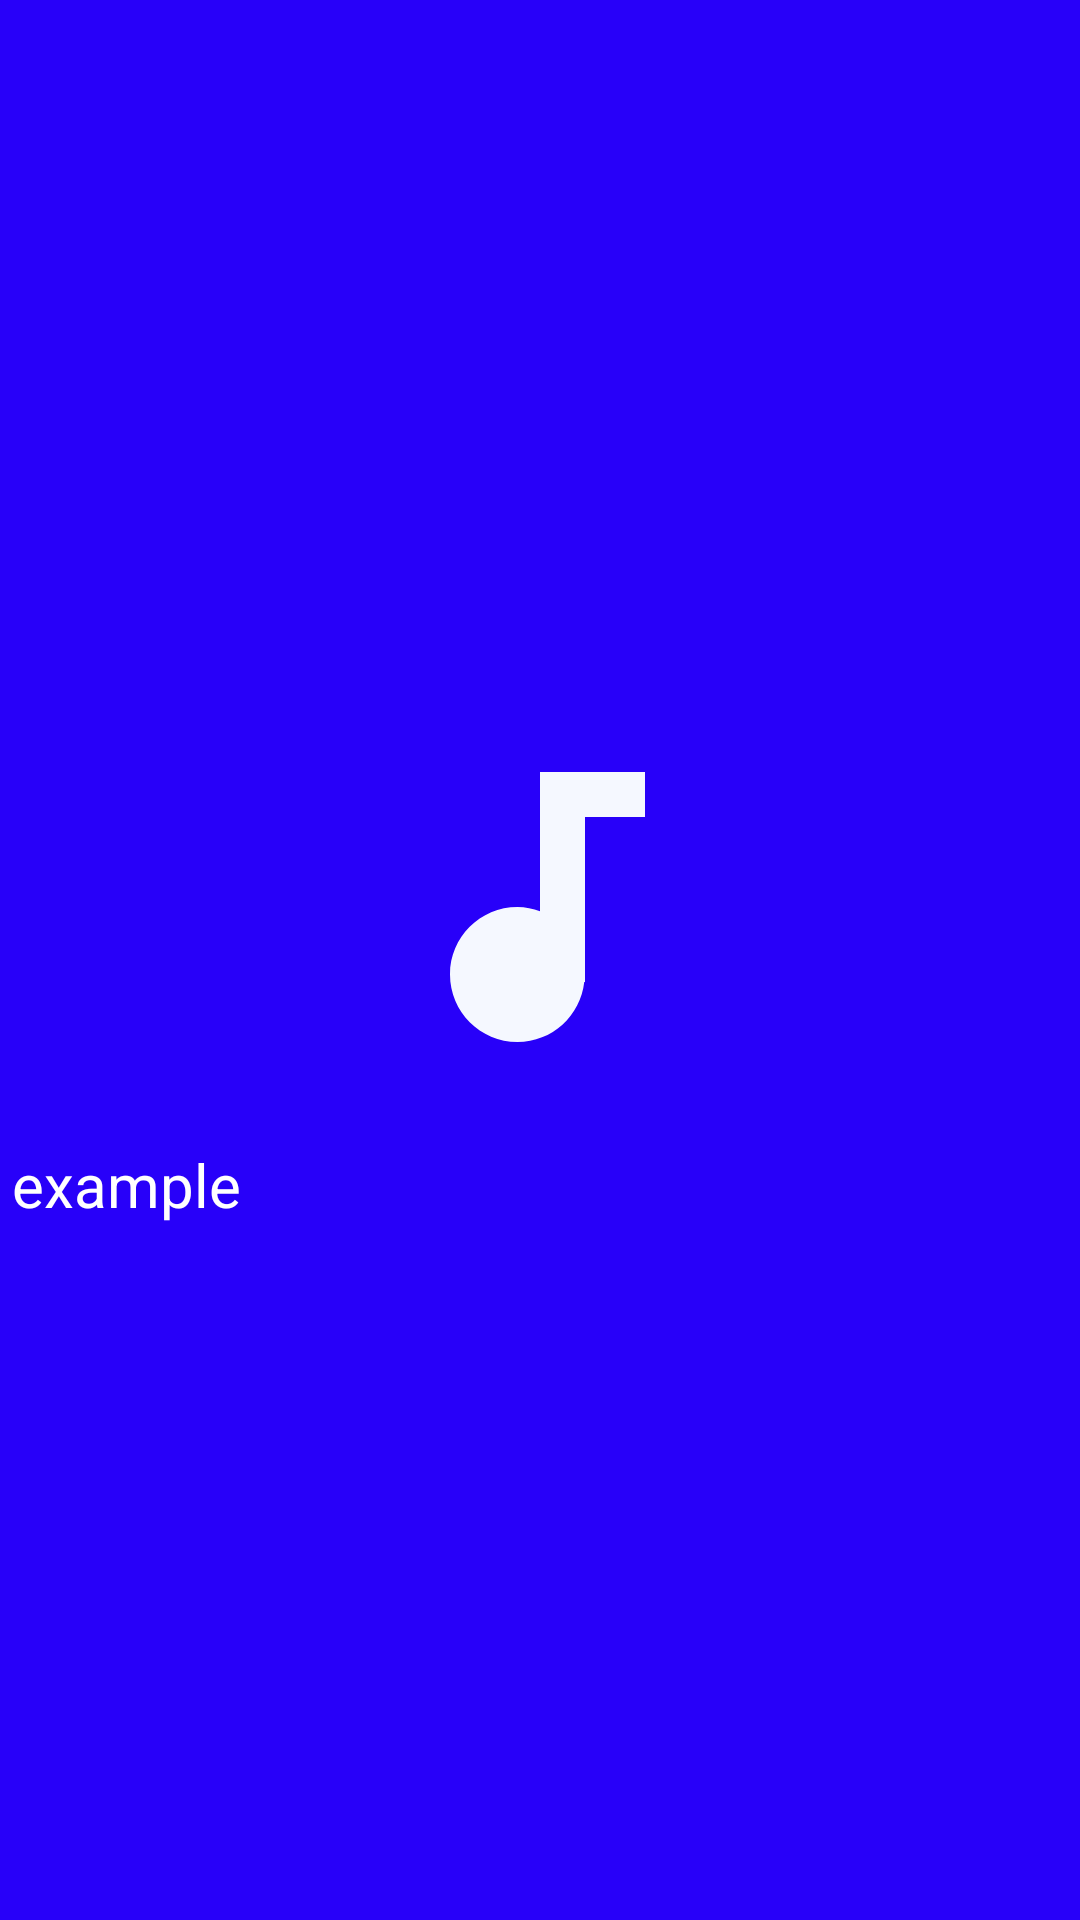

Icons on this 1080px x 1920px Android screen, each with its box as region(x1, y1, x2, y2):
audiotrack: region(450, 772, 645, 1042)
